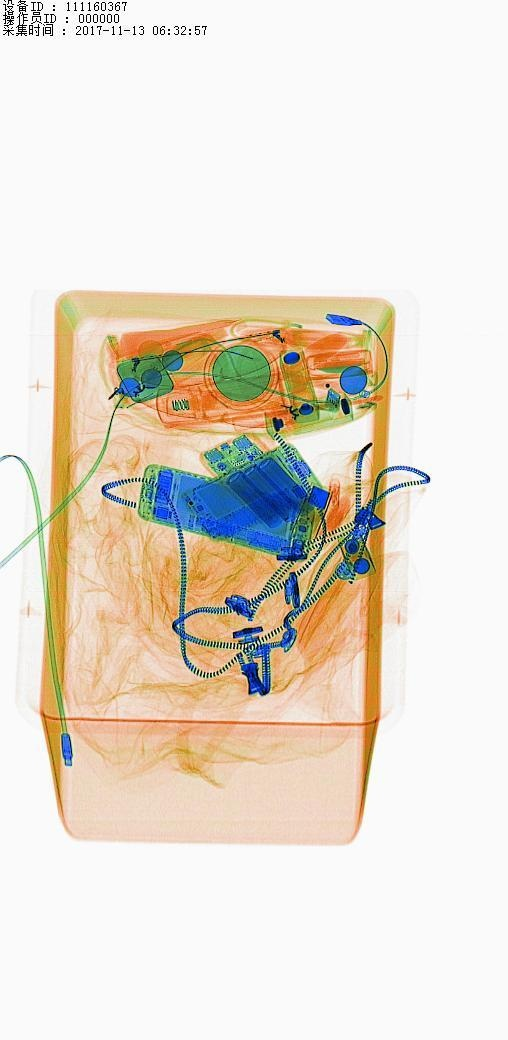core: (200, 444, 300, 518)
